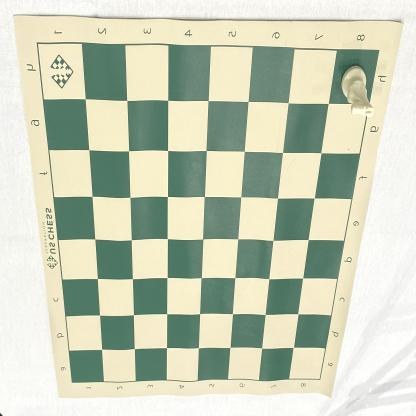white-knight: (340, 64, 374, 118)
